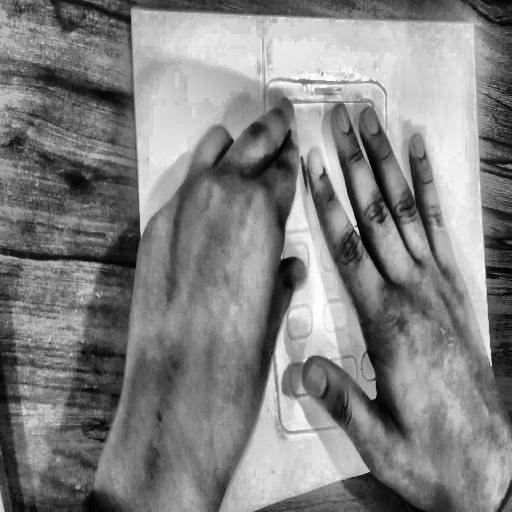bottom_right: (491, 411, 499, 425)
mobile: (255, 21, 412, 450)
top_left: (129, 5, 135, 14)
top_right: (471, 20, 476, 28)
